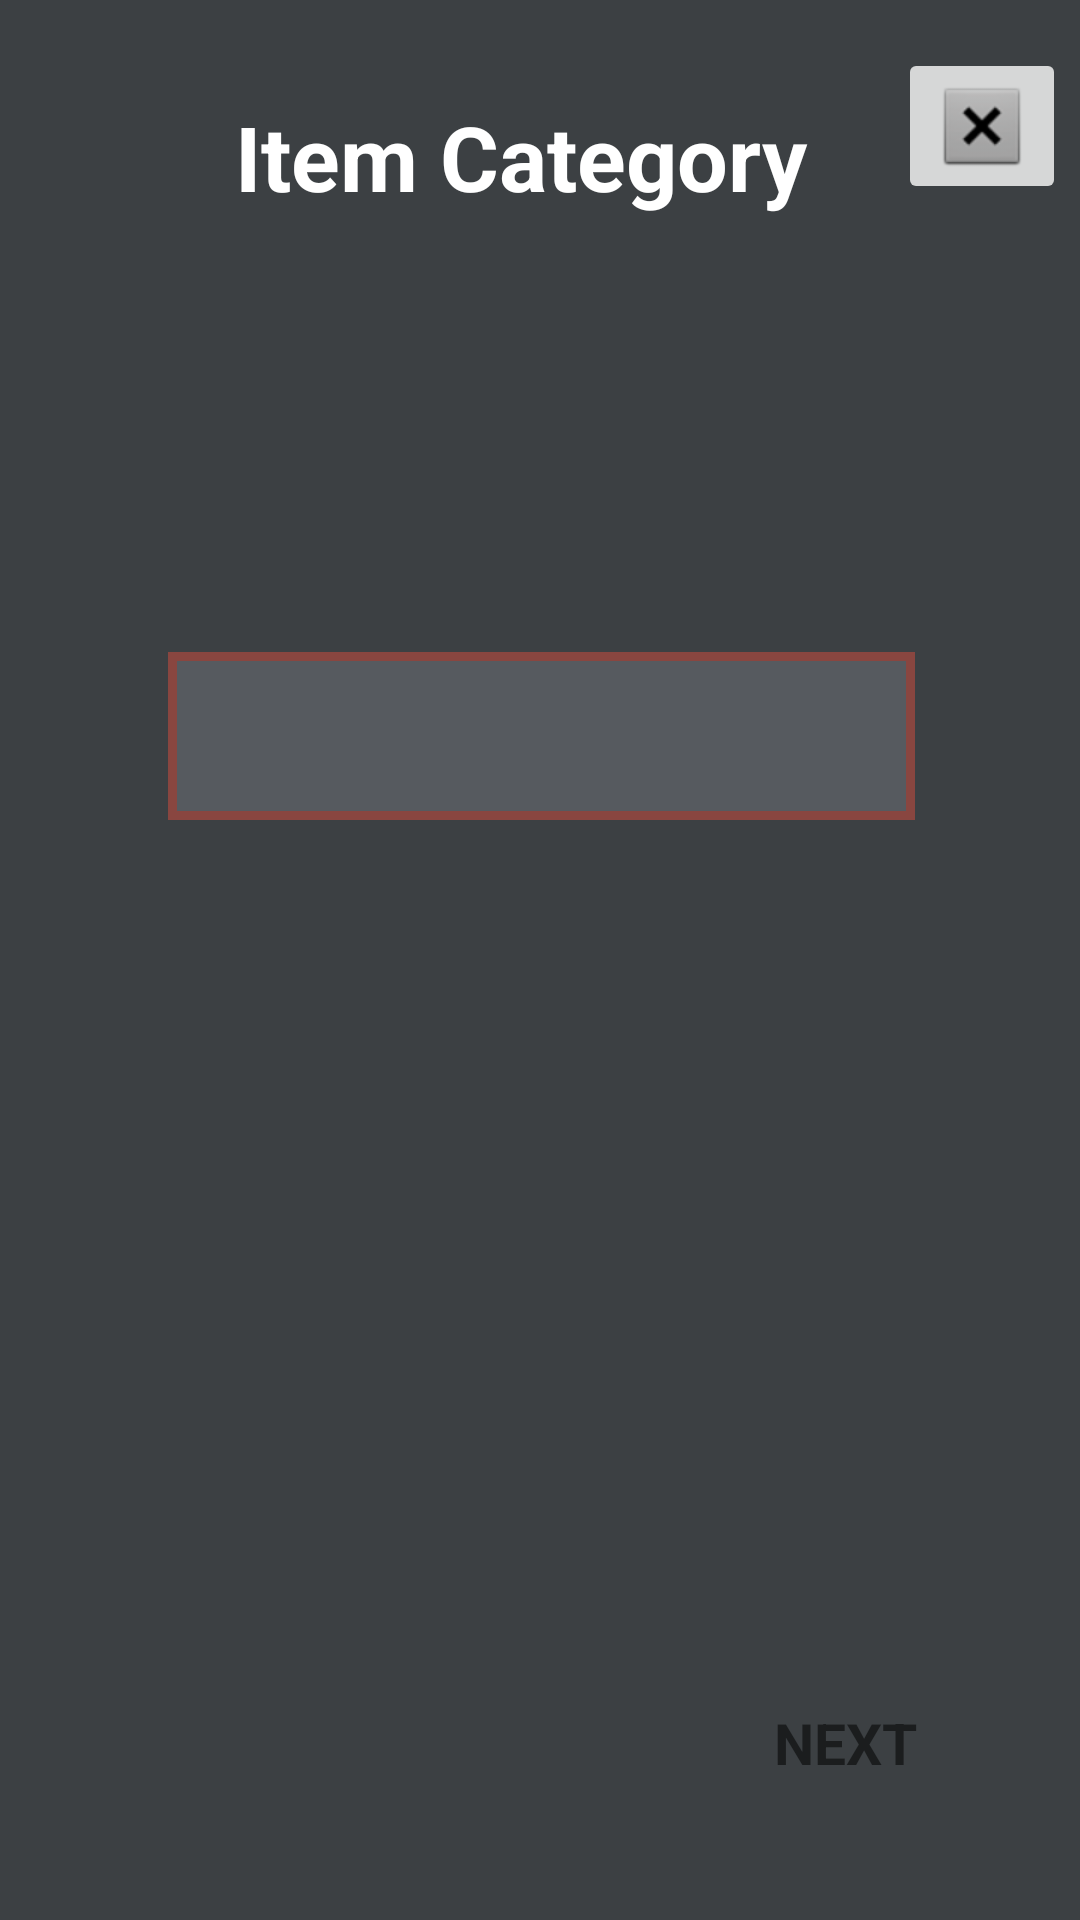

Icon click points for this 1080*1920 phone screenshot, format (x,y):
exit: (982,126)
